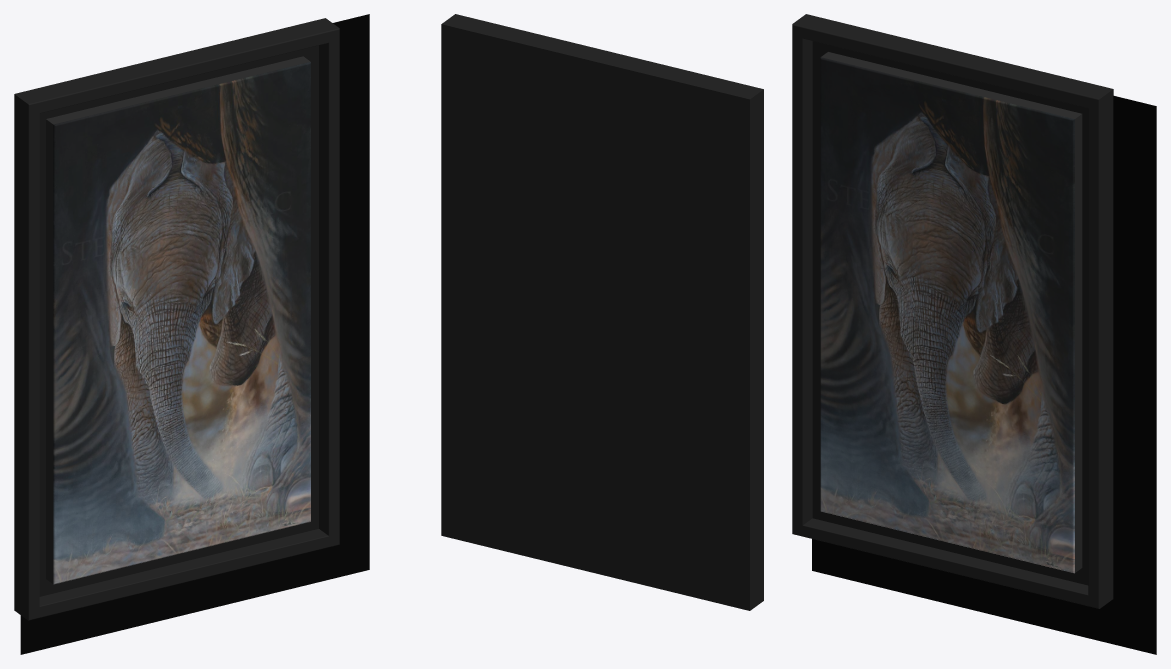
The model's file is tableau-elephanteau-realiste-classique-f967befc.glb.
3 views of the same model, side by side, from view 1: azimuth 30°, elevation 25°; view 2: azimuth 150°, elevation 25°; view 3: azimuth 330°, elevation 25° (orthographic).
Visible parts, largest first — view 1: Painting; view 2: Painting; view 3: Painting.
Boxes of the visible parts, <box> form: Painting: <box>14,14,369,654</box>; Painting: <box>441,14,763,610</box>; Painting: <box>792,14,1156,654</box>.
Size of the model in its own units: 0.566 by 0.856 by 0.04.
5 materials, 3 textured.
